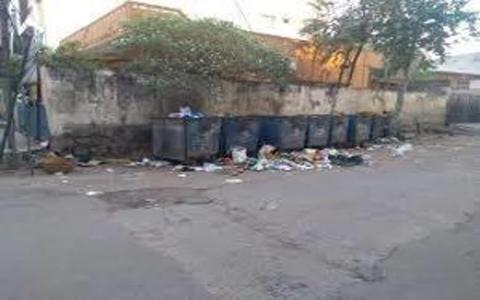overflowing garbage: (281, 111, 342, 182), (222, 110, 279, 178)
